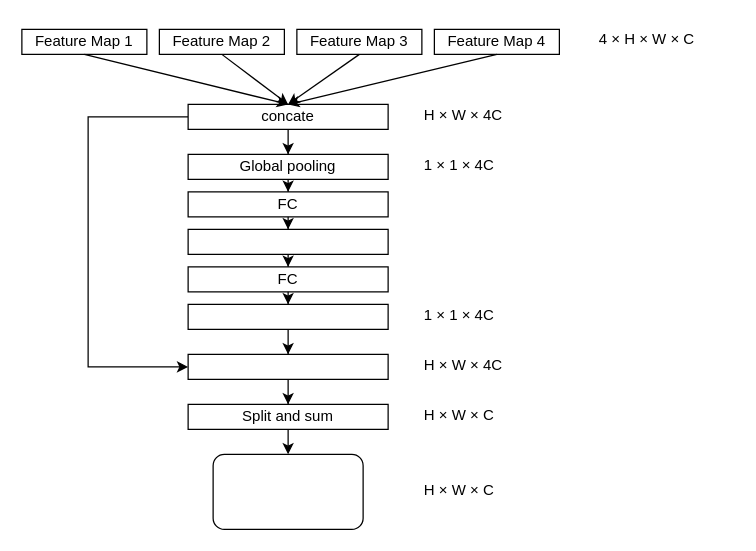
Some shapes in this 756 by 551 pixel diagram are drawn without their labels. The centre of each missing label's shape, as x and y in pixels:
"Recalibration" belongs at (x=287, y=366).
"ReLU" belongs at (x=287, y=241).
"Sigmoid" belongs at (x=287, y=316).
"Spatial fused feature" belongs at (x=287, y=491).
